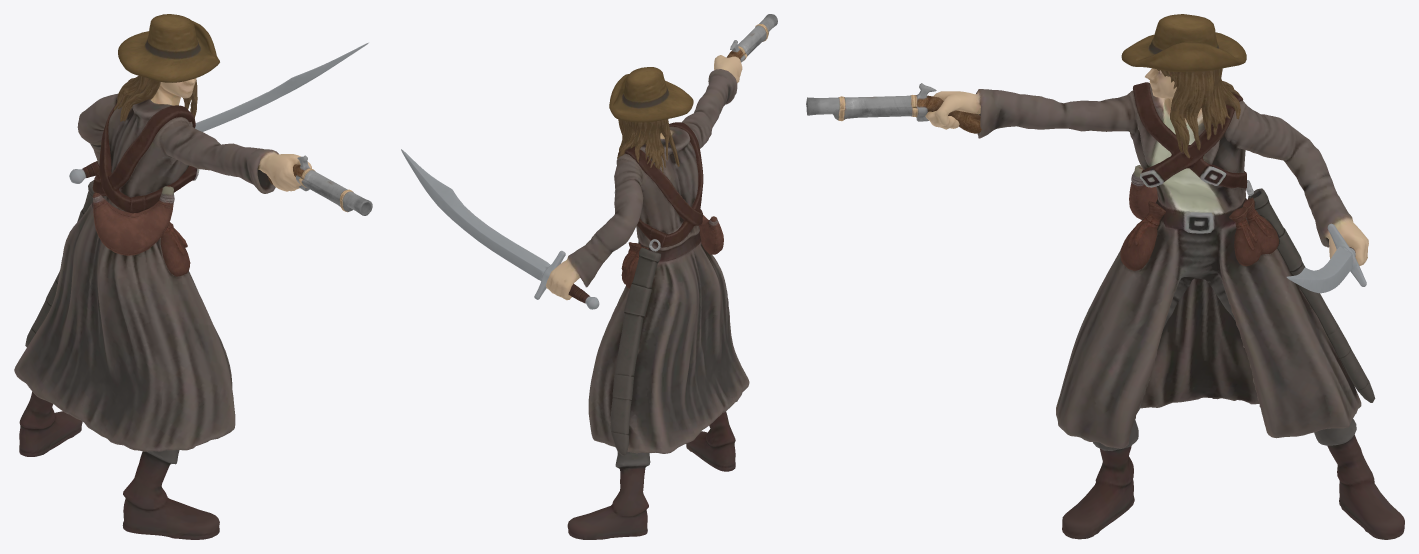
File: MZ4250 - Pirate Female.glb
3 views of the same model, side by side, from view 1: azimuth 30°, elevation 25°; view 2: azimuth 150°, elevation 25°; view 3: azimuth 270°, elevation 25° (orthographic). The views are drawn at different scales.
Parts seen in each view (by area): view 1: Body.001; view 2: Body.001; view 3: Body.001.
Part boxes in pixels (x1,y1,x2,y2): Body.001: (14, 14, 372, 539); Body.001: (401, 14, 777, 539); Body.001: (806, 14, 1404, 539).
Bounding box in the file's own units: 66.84 × 88.88 × 92.74.
Materials: 10 (10 with a texture image).
